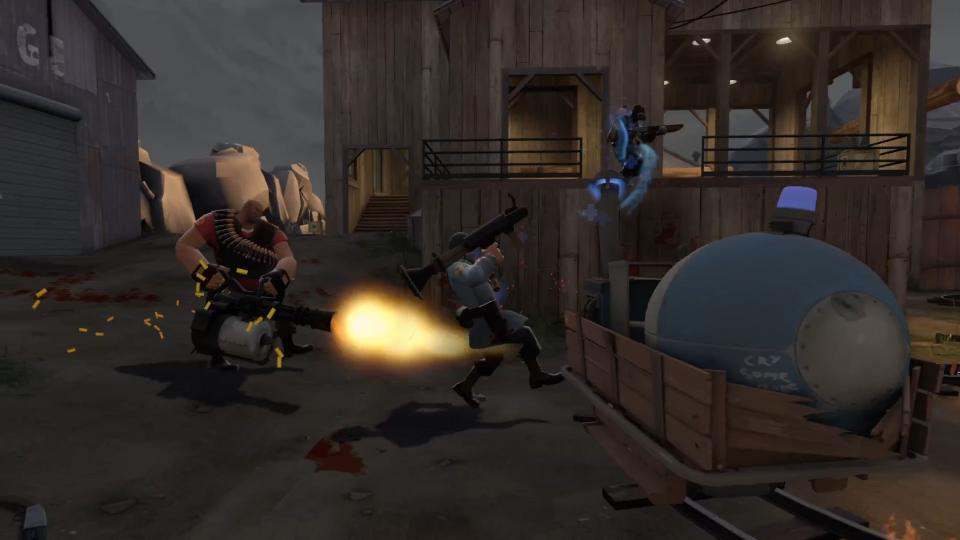Enemy: (399, 192, 565, 408), (176, 200, 340, 372), (606, 105, 684, 178)
